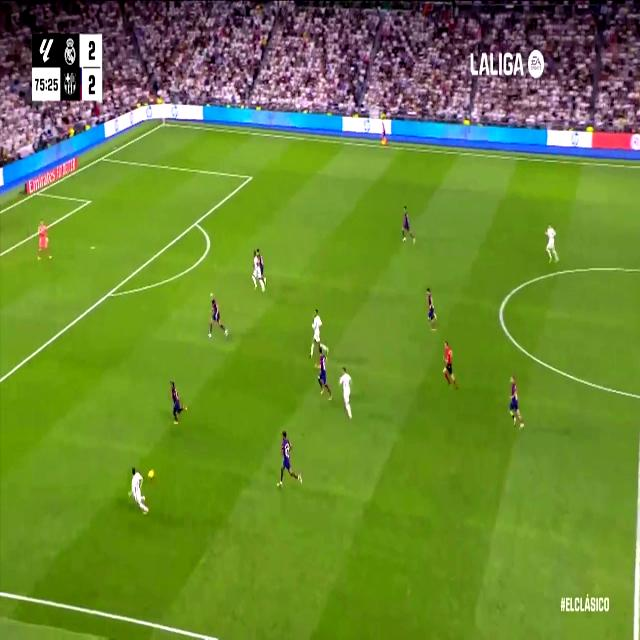bigarea_top_inner: (246, 169, 254, 185)
bigarea_top_outter: (98, 150, 106, 164)
bottom_arc_area_intersection: (104, 283, 114, 303)
corner: (160, 118, 168, 129)
smallarea_top_inner: (86, 196, 92, 206)
top_arc_area_intersection: (191, 213, 200, 231)
